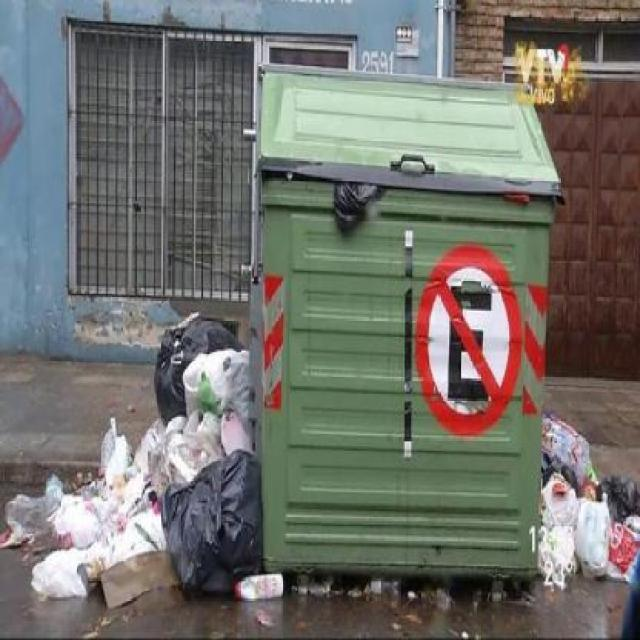garbage: (152, 308, 260, 636), (37, 426, 160, 636), (539, 402, 636, 636), (222, 563, 300, 622), (5, 483, 51, 549)
